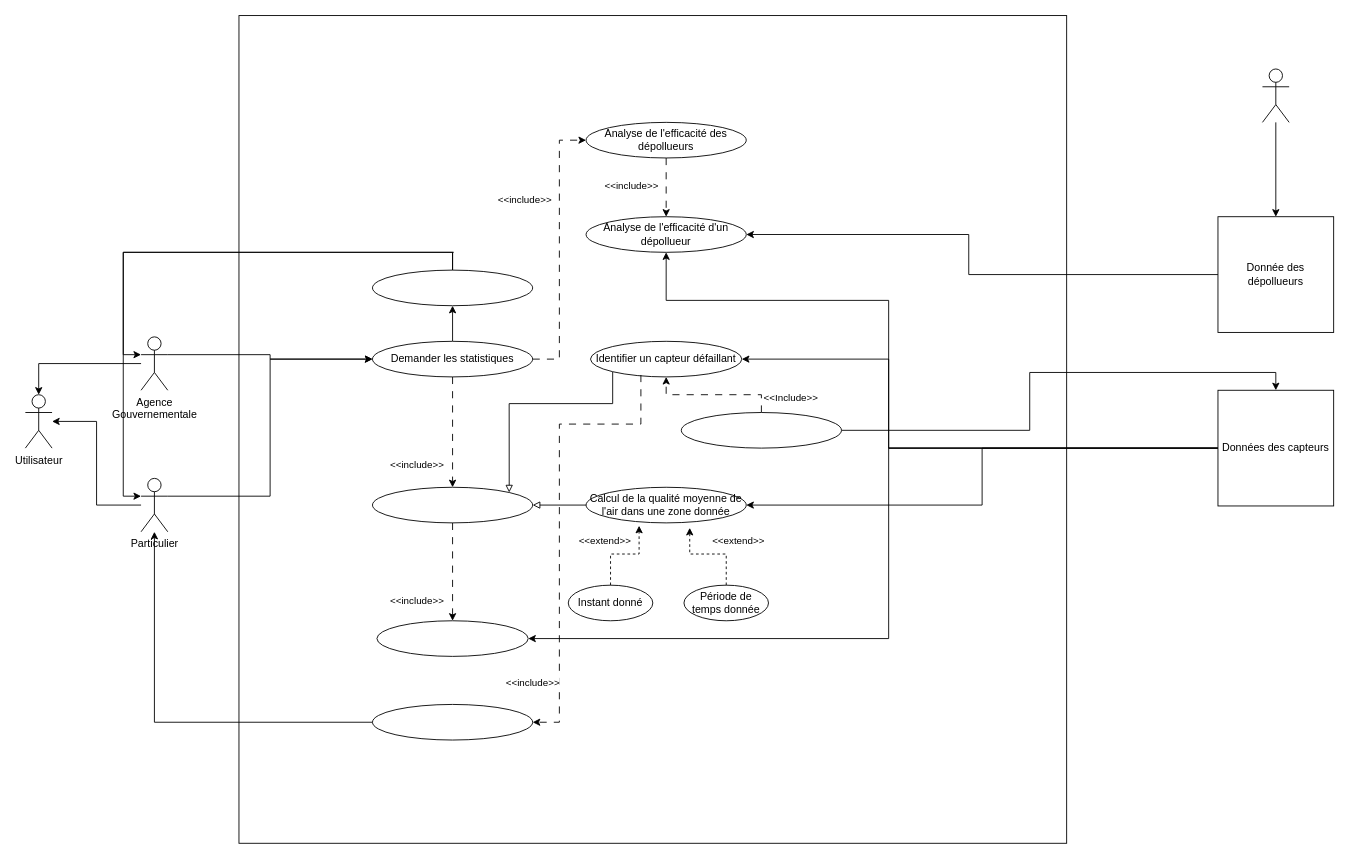
This 1349x859 diagram has some shape labels left out. The shapes that lost their labels are listed below. From the top down, each one's centre as x and y in pixels, then its label:
(1275,95): Provider
(452,287): Afficher les statistiques
(760,430): Declarer un capteur comme défaillant
(452,504): Analyse des données des capteurs
(452,638): Analyse des données d'un capteur
(452,722): Attribuer points/Déclarer l'utilisateur malveillant
